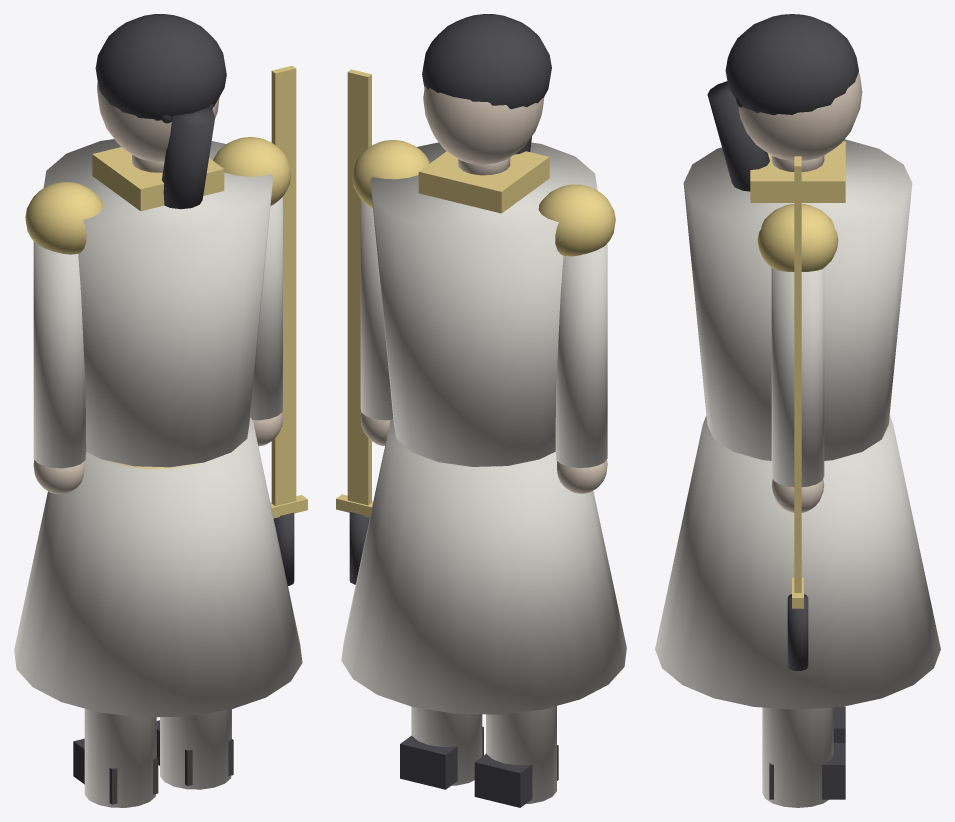
Rendered from dongfang-wuya.glb.
3 renders of one model, left to right at view 1: azimuth 30°, elevation 25°; view 2: azimuth 150°, elevation 25°; view 3: azimuth 270°, elevation 25°, orthographic.
Parts seen in each view (by area): view 1: dongfang-wuya_robe, dongfang-wuya_torso, dongfang-wuya_hair, dongfang-wuya_arm-0.235, dongfang-wuya_blade, dongfang-wuya_leg-0.09, dongfang-wuya_arm0.235, dongfang-wuya_leg0.09, dongfang-wuya_shoulder-0.22, dongfang-wuya_pigtail, dongfang-wuya_collar, dongfang-wuya_shoulder0.22 (+6 smaller); view 2: dongfang-wuya_robe, dongfang-wuya_torso, dongfang-wuya_arm-0.235, dongfang-wuya_hair, dongfang-wuya_blade, dongfang-wuya_head, dongfang-wuya_collar, dongfang-wuya_arm0.235, dongfang-wuya_leg-0.09, dongfang-wuya_shoulder-0.22, dongfang-wuya_leg0.09, dongfang-wuya_shoulder0.22 (+6 smaller); view 3: dongfang-wuya_robe, dongfang-wuya_torso, dongfang-wuya_hair, dongfang-wuya_arm0.235, dongfang-wuya_leg0.09, dongfang-wuya_head, dongfang-wuya_shoulder0.22, dongfang-wuya_collar, dongfang-wuya_blade, dongfang-wuya_pigtail, dongfang-wuya_grip, dongfang-wuya_boot0.09 (+2 smaller).
Part boxes in pixels (box(x1,y1,x2,y2)): dongfang-wuya_robe: box(14, 417, 302, 717); dongfang-wuya_torso: box(43, 139, 273, 467); dongfang-wuya_hair: box(95, 14, 226, 120); dongfang-wuya_arm-0.235: box(33, 241, 86, 468); dongfang-wuya_blade: box(271, 65, 296, 505); dongfang-wuya_leg-0.09: box(84, 708, 156, 807); dongfang-wuya_arm0.235: box(250, 197, 282, 420); dongfang-wuya_leg0.09: box(160, 709, 231, 789); dongfang-wuya_shoulder-0.22: box(25, 182, 103, 254); dongfang-wuya_pigtail: box(162, 107, 215, 209); dongfang-wuya_collar: box(92, 147, 224, 211); dongfang-wuya_shoulder0.22: box(213, 137, 291, 205); dongfang-wuya_robe: box(341, 418, 626, 714); dongfang-wuya_torso: box(370, 142, 597, 466); dongfang-wuya_arm-0.235: box(555, 243, 607, 467); dongfang-wuya_hair: box(422, 14, 551, 109); dongfang-wuya_blade: box(347, 69, 371, 505); dongfang-wuya_head: box(423, 86, 544, 164); dongfang-wuya_collar: box(418, 151, 549, 213); dongfang-wuya_arm0.235: box(360, 199, 393, 420); dongfang-wuya_leg-0.09: box(486, 706, 556, 803); dongfang-wuya_shoulder-0.22: box(538, 184, 615, 256); dongfang-wuya_leg0.09: box(411, 706, 482, 785); dongfang-wuya_shoulder0.22: box(352, 140, 429, 208); dongfang-wuya_robe: box(655, 416, 940, 709); dongfang-wuya_torso: box(683, 139, 912, 460); dongfang-wuya_hair: box(725, 14, 858, 115); dongfang-wuya_arm0.235: box(771, 268, 824, 487); dongfang-wuya_leg0.09: box(762, 707, 833, 807); dongfang-wuya_head: box(738, 72, 862, 160); dongfang-wuya_shoulder0.22: box(757, 204, 838, 271); dongfang-wuya_collar: box(750, 141, 845, 202); dongfang-wuya_blade: box(794, 156, 801, 592); dongfang-wuya_pigtail: box(707, 81, 769, 191); dongfang-wuya_grip: box(787, 594, 808, 670); dongfang-wuya_boot0.09: box(769, 743, 845, 799).
Size of the model in its own units: 0.655 by 1.74 by 0.6.
